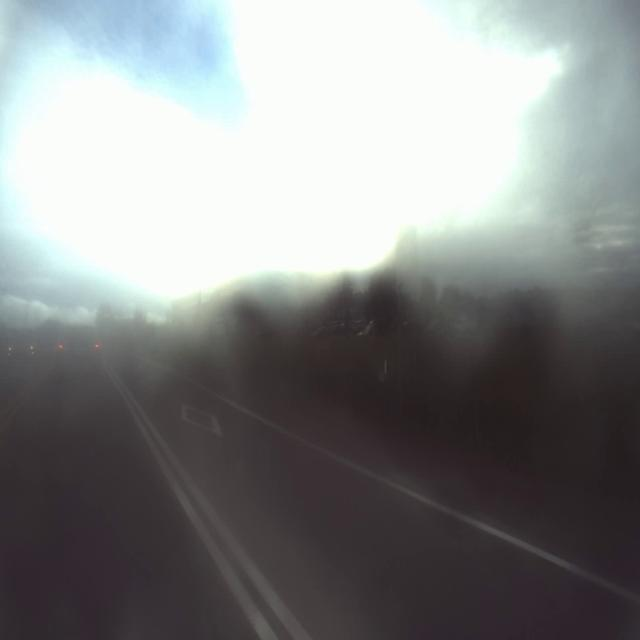car: (51, 316, 107, 391)
